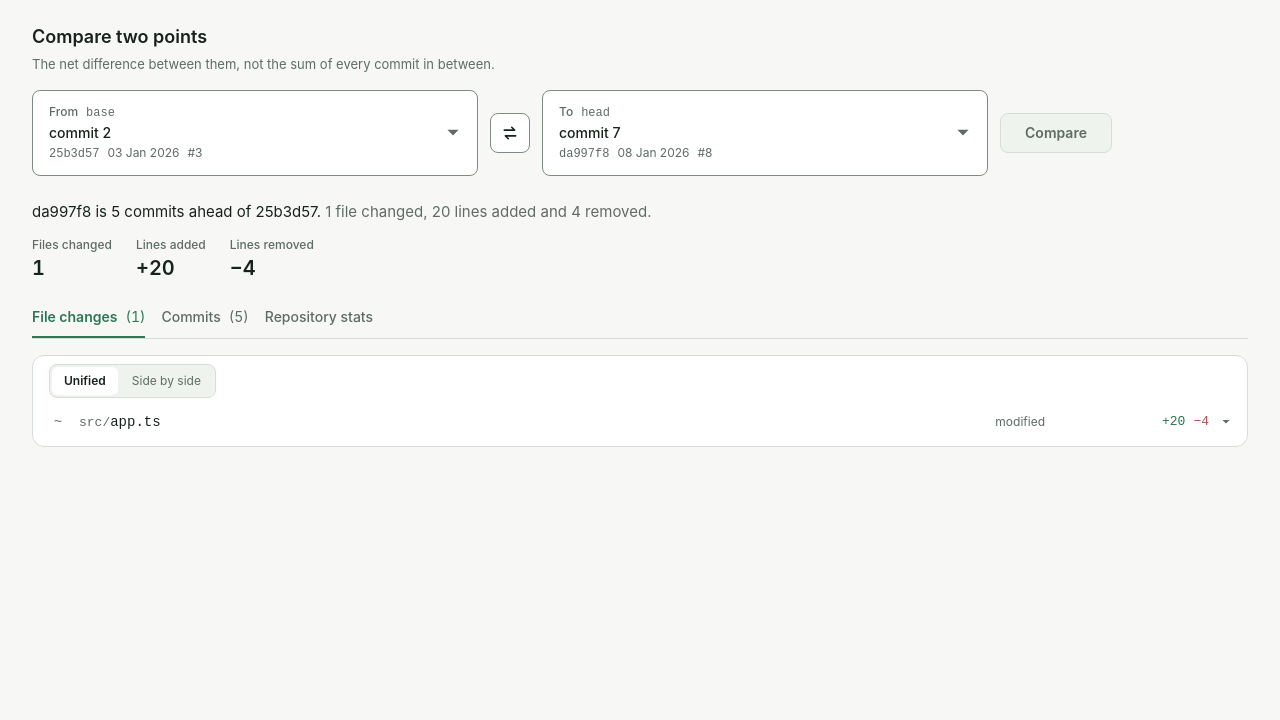
Test: CompareView result › opens on the file changes, with the other two reachable
This screenshot has width=1280, height=720.
Expected: the text "app.ts" is shown, [110, 414, 161, 430]
Click the tab "Commits (5)" at (205, 318), box [161, 298, 249, 338]
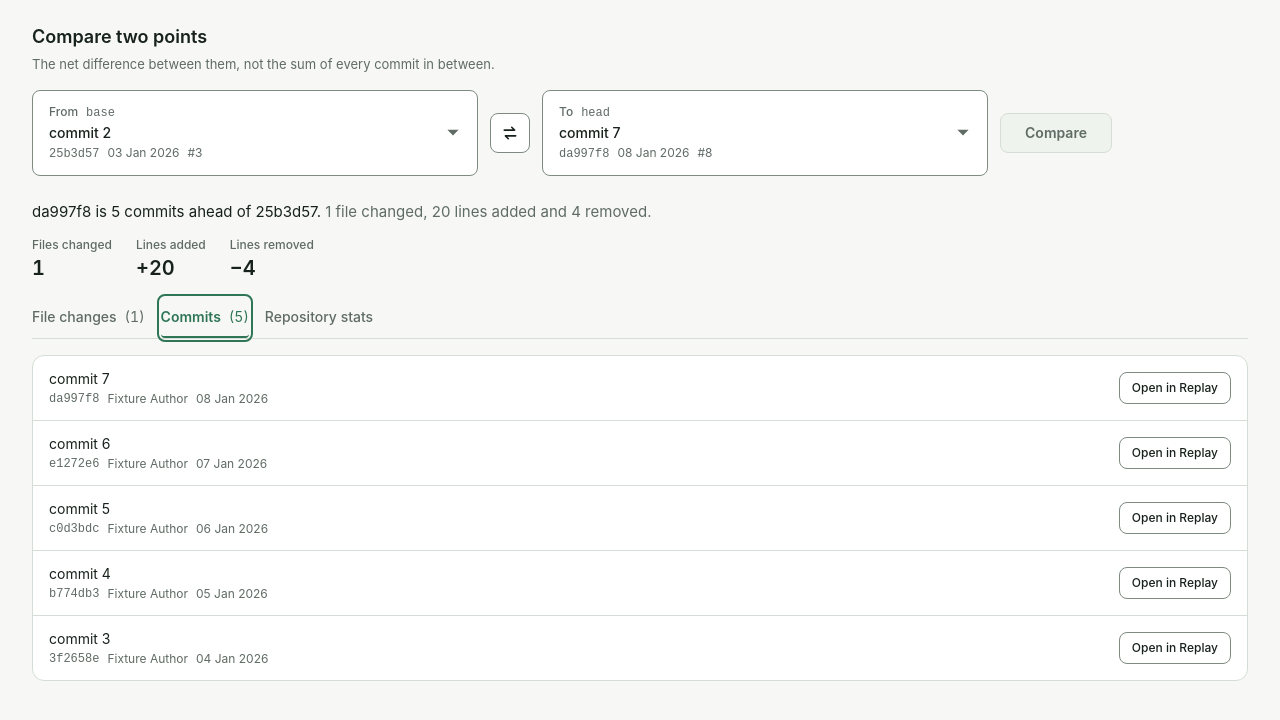
Click the tab "Repository stats" at (319, 318), box [265, 298, 373, 338]
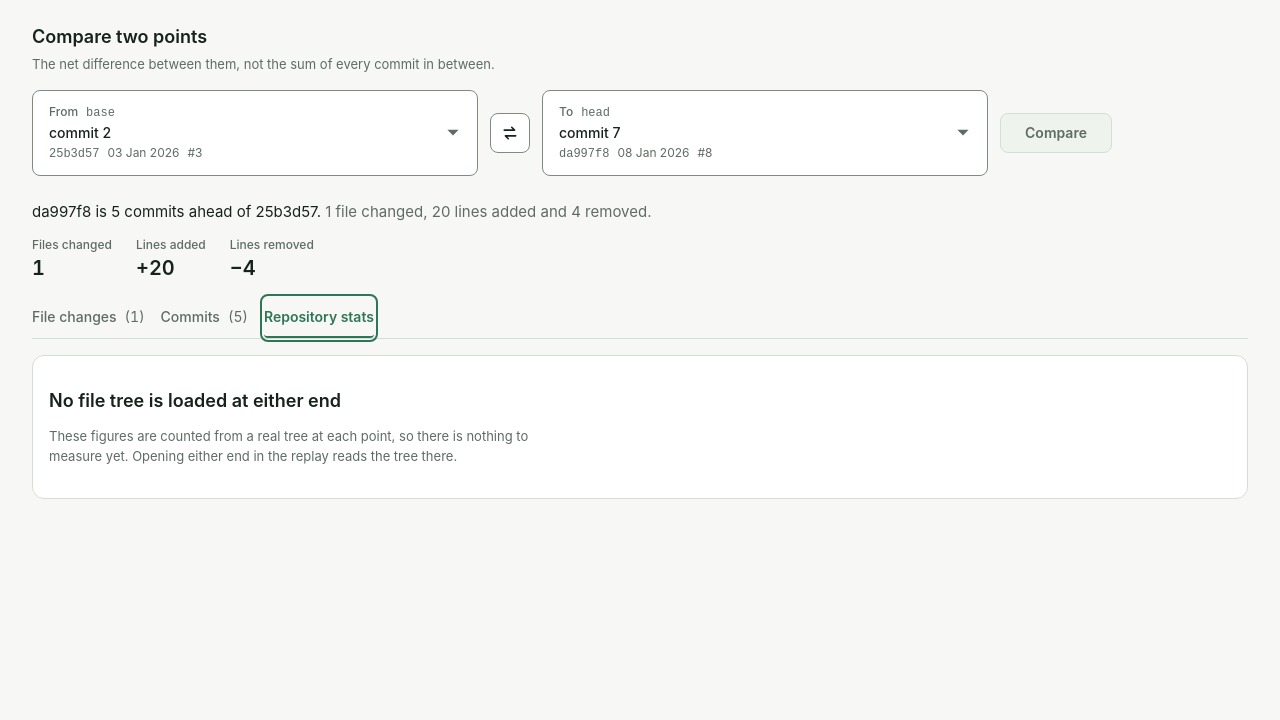
Expected: the text "No file tree is loaded at either end" is shown, [49, 388, 341, 414]
